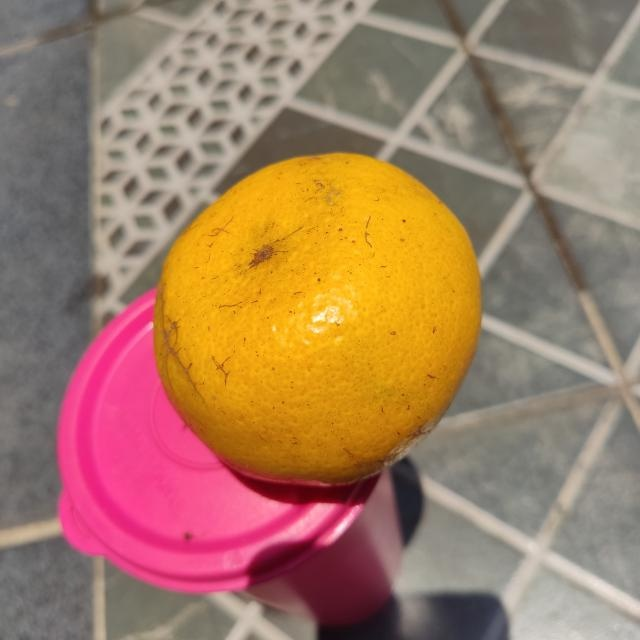agrume: (154, 151, 483, 489)
